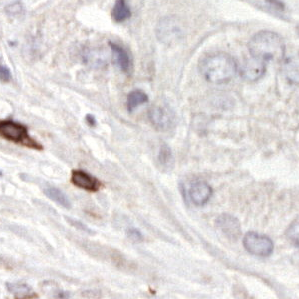Lymphocyte: (68, 167, 102, 193)
